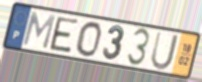3: (125, 27, 151, 68), (102, 24, 126, 62)
E: (48, 16, 80, 55)
M: (21, 11, 58, 52)
O: (74, 21, 103, 59)
U: (149, 30, 180, 72)
